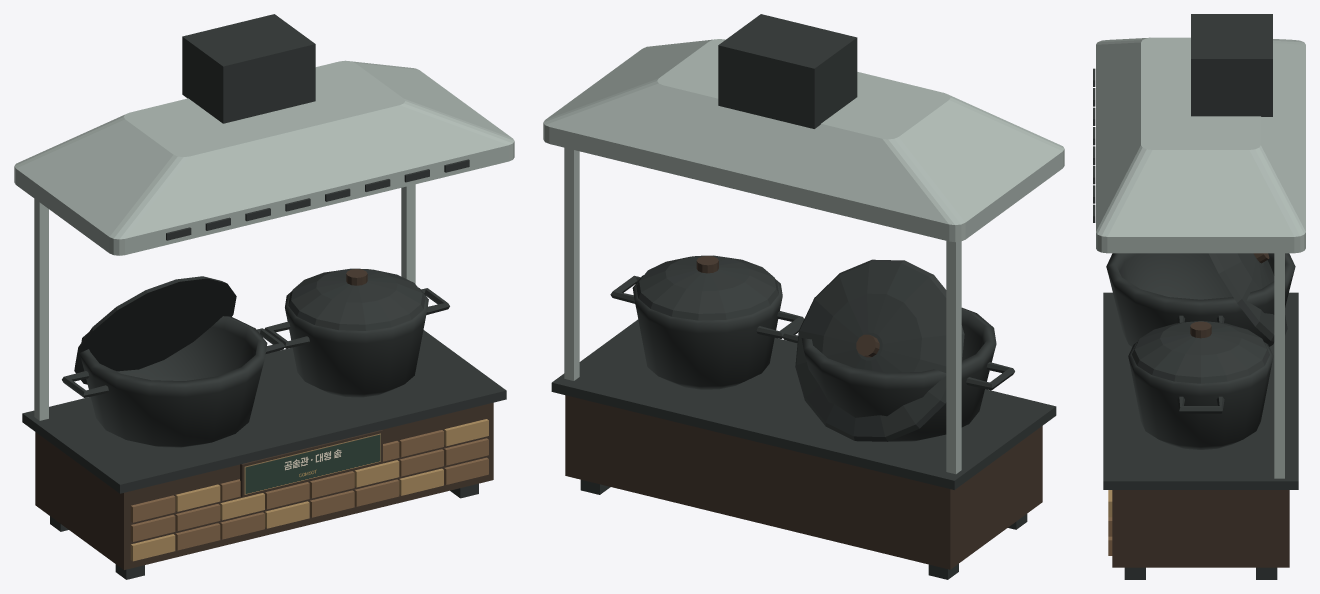
File: 01_Cauldron_Stove.fbx
3 views of the same model, side by side, from view 1: azimuth 30°, elevation 25°; view 2: azimuth 150°, elevation 25°; view 3: azimuth 270°, elevation 25° (orthographic). The views are drawn at different scales.
Parts seen in each view (by area): view 1: 01_Cauldron_Stove__Structure, 01_Cauldron_Stove; view 2: 01_Cauldron_Stove__Structure, 01_Cauldron_Stove; view 3: 01_Cauldron_Stove__Structure, 01_Cauldron_Stove.
Part boxes in pixels (x1,y1,x2,y2): 01_Cauldron_Stove__Structure: (14, 14, 514, 579); 01_Cauldron_Stove: (62, 268, 449, 447); 01_Cauldron_Stove__Structure: (543, 14, 1064, 579); 01_Cauldron_Stove: (610, 255, 1014, 441); 01_Cauldron_Stove__Structure: (1093, 14, 1305, 579); 01_Cauldron_Stove: (1106, 253, 1295, 449).
Bounding box in the file's own units: 284 × 308 × 130.
2 materials, 2 textured.
